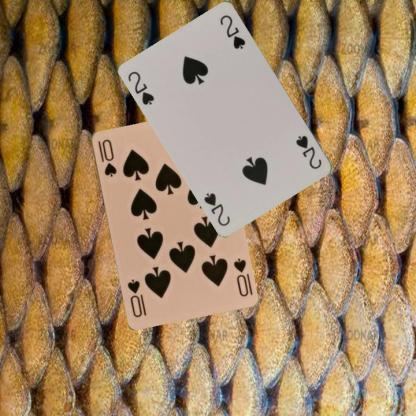10s: (95, 136, 118, 178), (230, 254, 249, 298)
2s: (125, 69, 156, 106), (293, 132, 323, 170)
